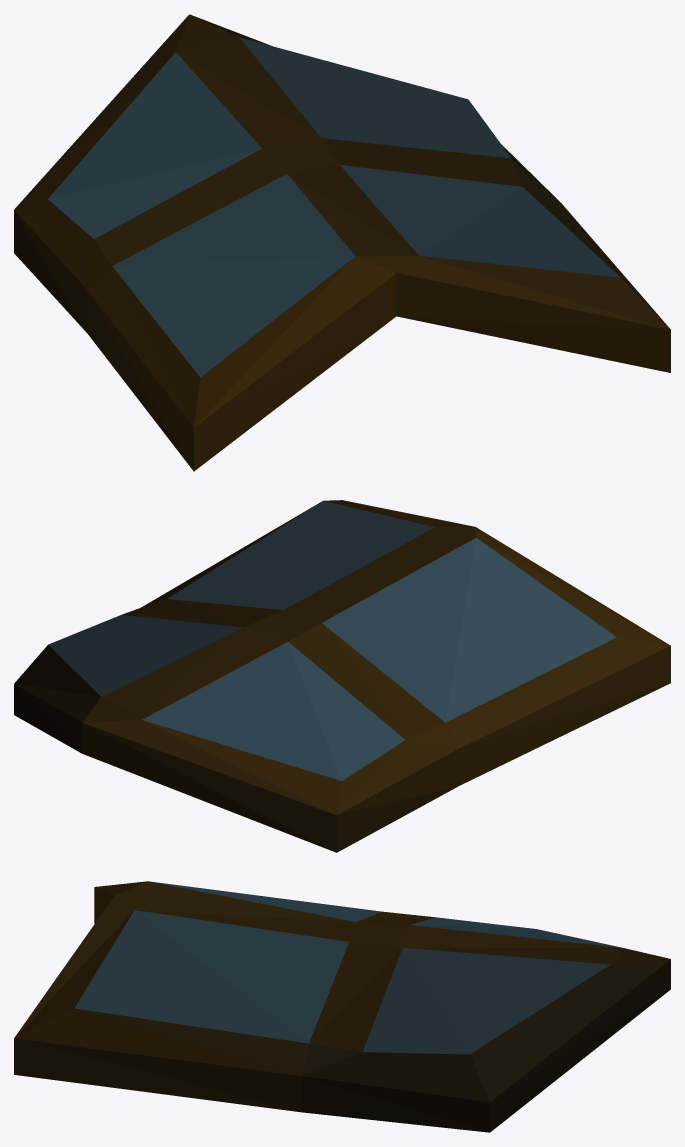
File: runite-kiteshield.obj
3 renders of one model, top to bottom at view 1: azimuth 30°, elevation 25°; view 2: azimuth 150°, elevation 25°; view 3: azimuth 270°, elevation 25°, orthographic. The views are drawn at different scales.
Parts seen in each view (by area): view 1: Item Rune kiteshield 2026-09-24_18-19-46; view 2: Item Rune kiteshield 2026-09-24_18-19-46; view 3: Item Rune kiteshield 2026-09-24_18-19-46.
Part boxes in pixels (bbox=[...]): Item Rune kiteshield 2026-09-24_18-19-46: bbox=[14, 14, 670, 471]; Item Rune kiteshield 2026-09-24_18-19-46: bbox=[14, 500, 670, 852]; Item Rune kiteshield 2026-09-24_18-19-46: bbox=[14, 881, 670, 1132].
Bounding box in the file's own units: 76 × 22 × 98.
